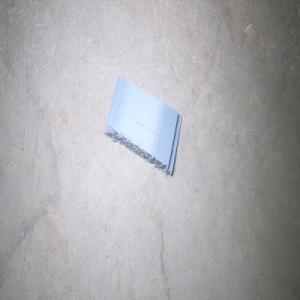PlasticPart: (103, 75, 182, 176)
